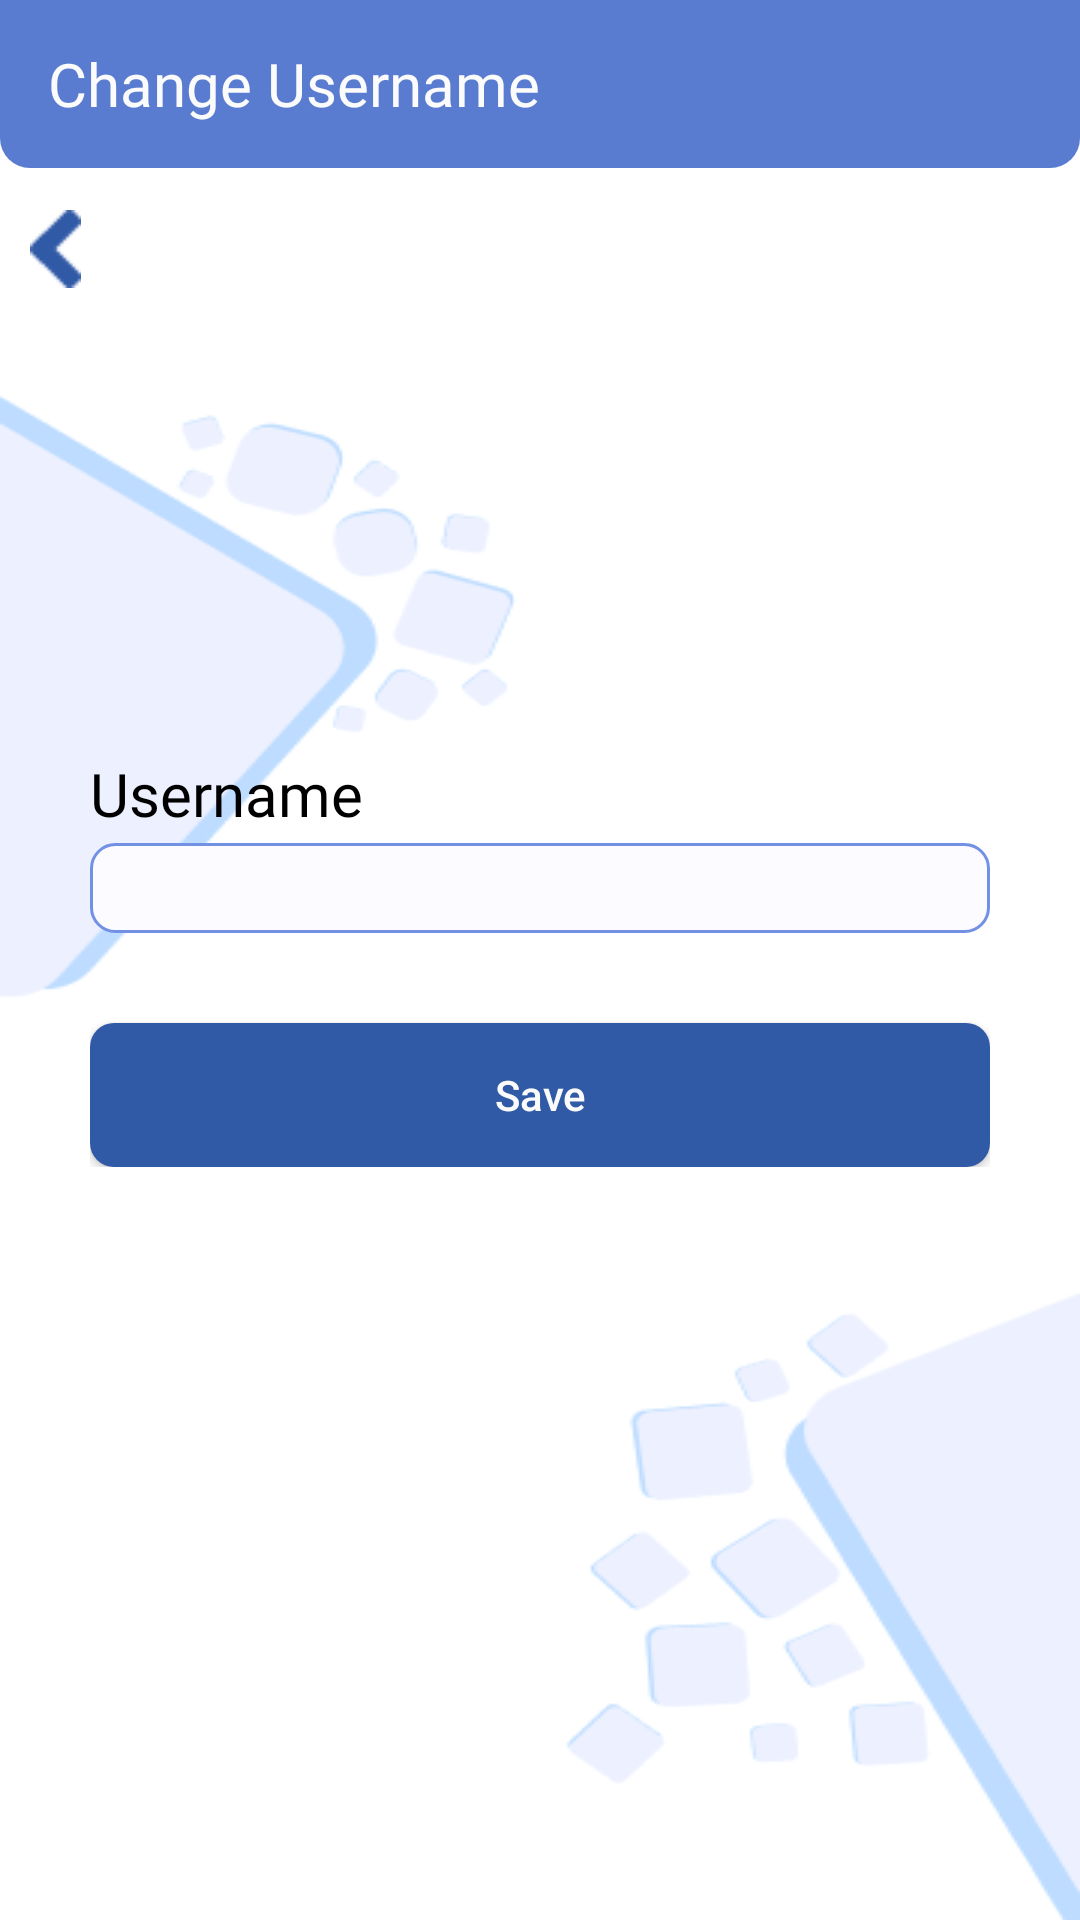

Locate icon controls on the screen. Image size 1080w x 1920h, boxes as {"left": x1, "top": y1, "right": x2, "bottom": y2}.
back symbol: {"left": 30, "top": 210, "right": 81, "bottom": 288}
